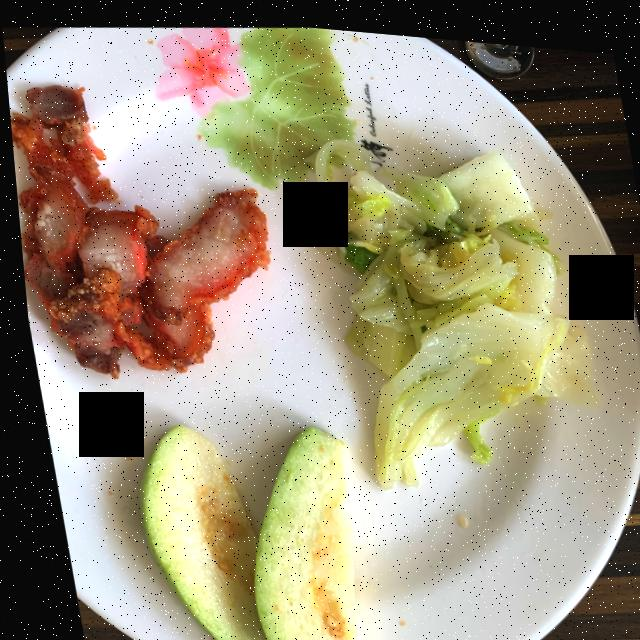cabbage: (307, 135, 590, 481)
coin: (463, 32, 533, 69)
guava -sliced-: (130, 422, 344, 640)
red grilled pork: (8, 85, 263, 376)
